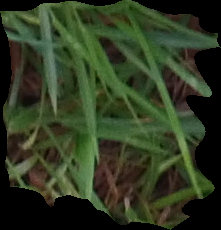grass: (1, 1, 219, 228)
